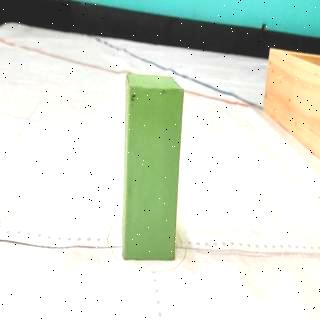greenbox: (119, 68, 184, 262)
